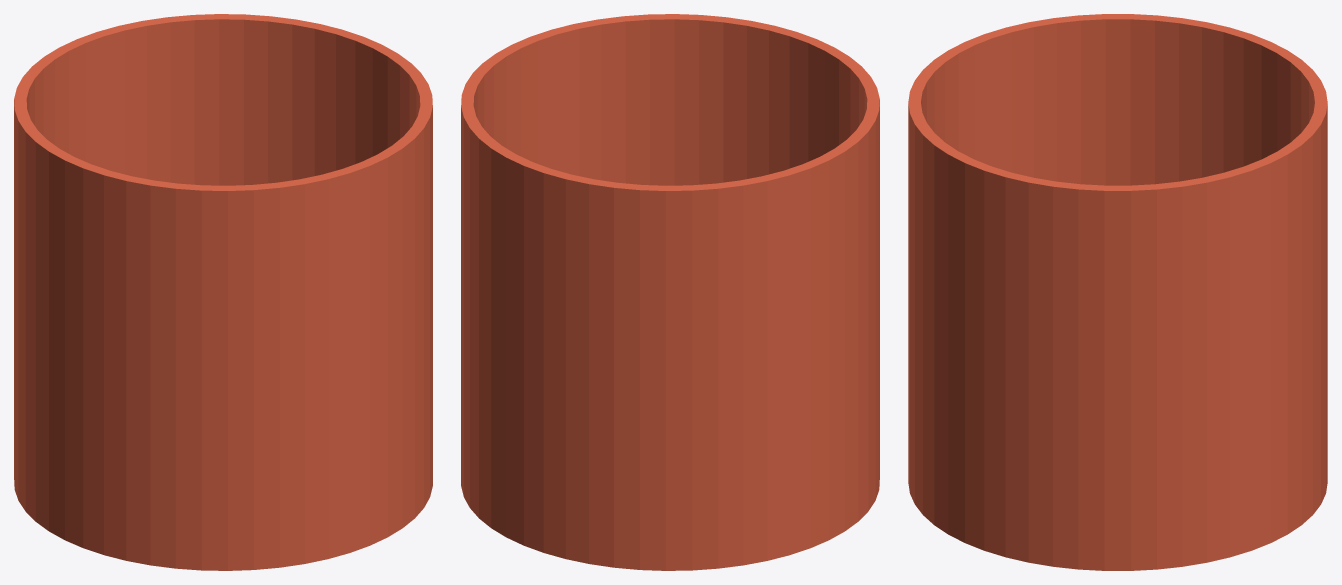
The model's file is graveLight.fbx.
3 renders of one model, left to right at view 1: azimuth 30°, elevation 25°; view 2: azimuth 150°, elevation 25°; view 3: azimuth 270°, elevation 25°, orthographic.
Parts seen in each view (by area): view 1: Cylinder; view 2: Cylinder; view 3: Cylinder.
Boxes of the visible parts, x1,y1,x2,y2 form: Cylinder: [14, 14, 432, 570]; Cylinder: [461, 14, 879, 570]; Cylinder: [908, 14, 1327, 570].
Size of the model in its own units: 200 by 200 by 200.
